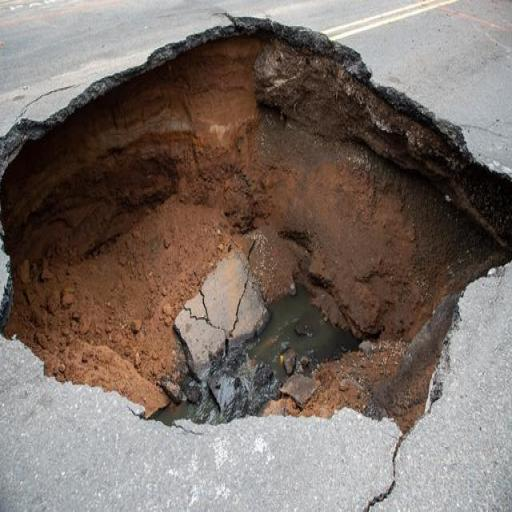Concentric_Crack: (0, 18, 512, 434)
